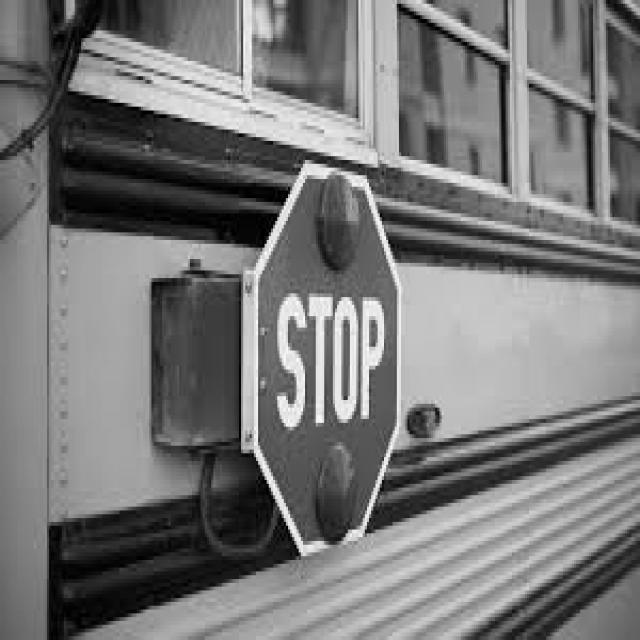stop sign: (255, 162, 402, 545)
